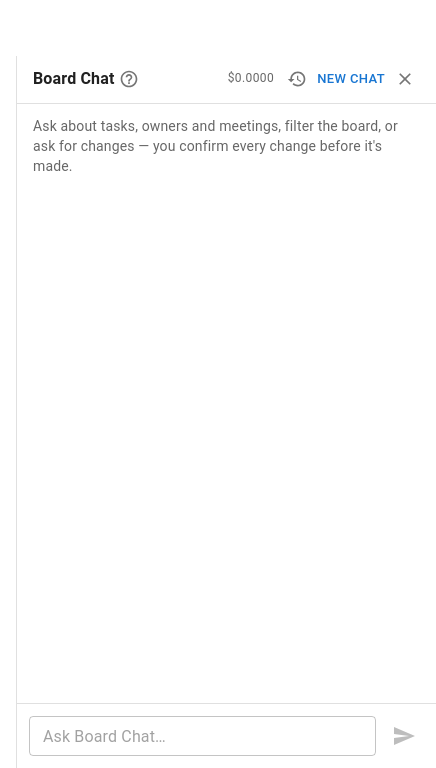
BoardChatPanel › the ? button opens the hints
Step 1. Click the button named "How to use Board Chat" → (130, 79), box [114,64,144,94]
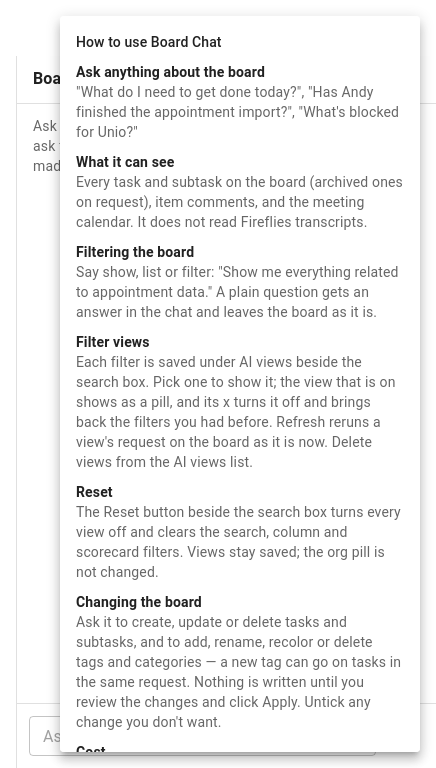
Check: the text "Filter views" is shown, box [76,334,150,350]
Check: the text "does not read Fireflies" is shown, box [76,174,403,230]
